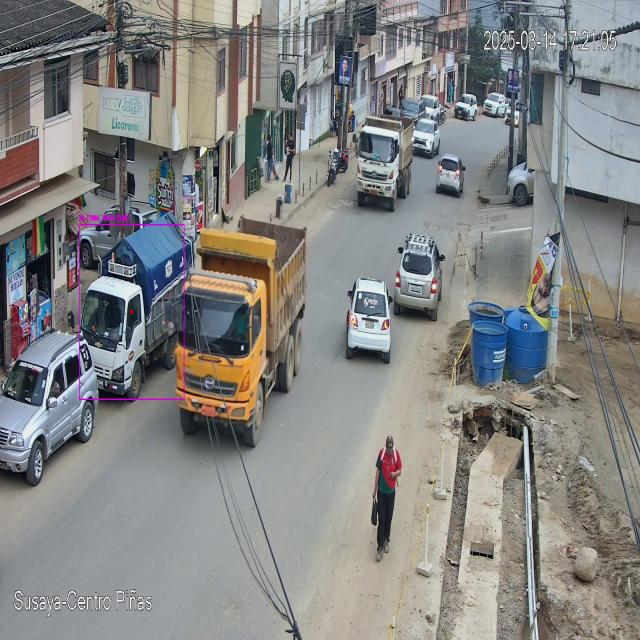SED: (344, 278, 391, 364), (436, 154, 466, 198)
SUV: (394, 233, 446, 321)
TRUCK: (175, 219, 308, 452), (355, 116, 415, 213)
